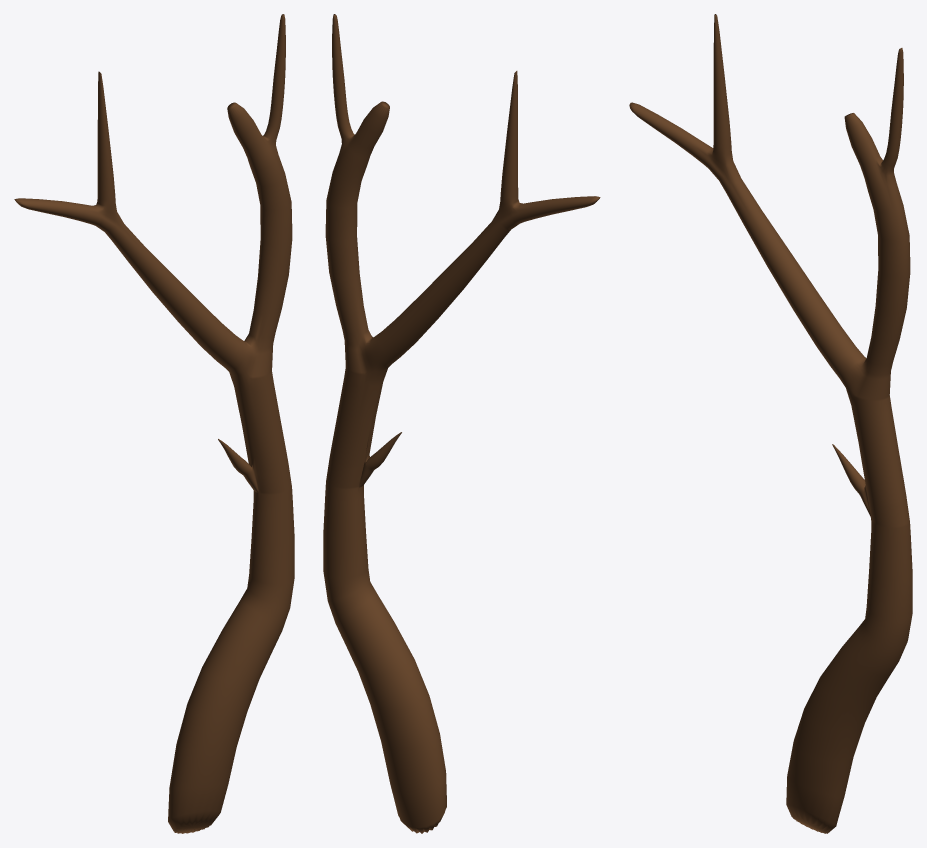
File: Small_Branch_FBX.fbx
3 renders of one model, left to right at view 1: azimuth 30°, elevation 25°; view 2: azimuth 150°, elevation 25°; view 3: azimuth 330°, elevation 25°, orthographic. The views are drawn at different scales.
Parts seen in each view (by area): view 1: Branch_Small; view 2: Branch_Small; view 3: Branch_Small.
Boxes of the visible parts, bbox=[...] form: Branch_Small: bbox=[14, 14, 294, 833]; Branch_Small: bbox=[323, 14, 600, 833]; Branch_Small: bbox=[629, 14, 912, 833].
Size of the model in its own units: 1.97 by 5.45 by 0.3404.
